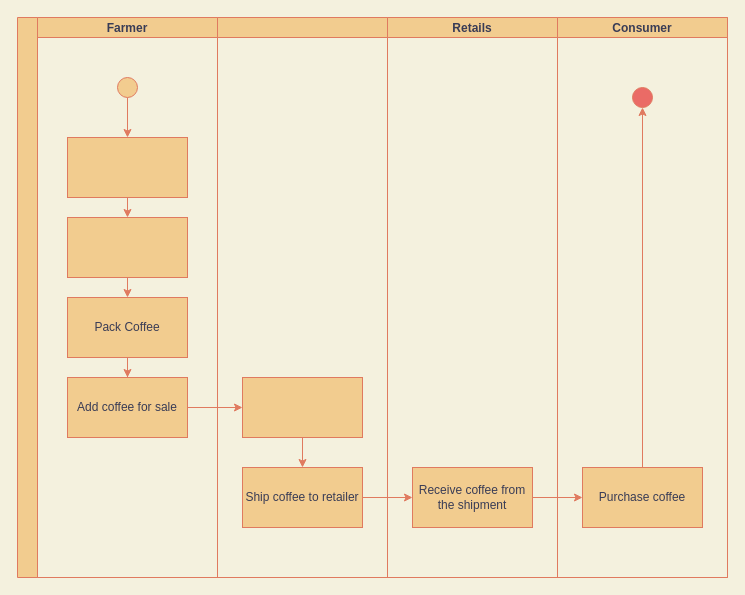
This 745x595 diagram has some shape labels left out. The shapes that lost their labels are listed below. From the top down, each one's box as (x1, y1, x2, y2) in pixels, then its label:
(66, 136, 188, 198): Harvest Coffee
(66, 216, 188, 278): Process Coffee
(216, 16, 388, 578): Distributor
(242, 376, 362, 438): Buy coffee from farmer
